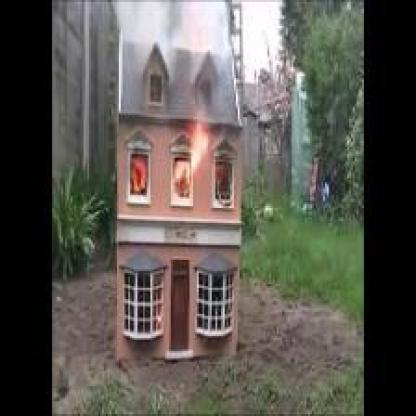fire: (171, 116, 214, 186), (129, 150, 147, 195)
